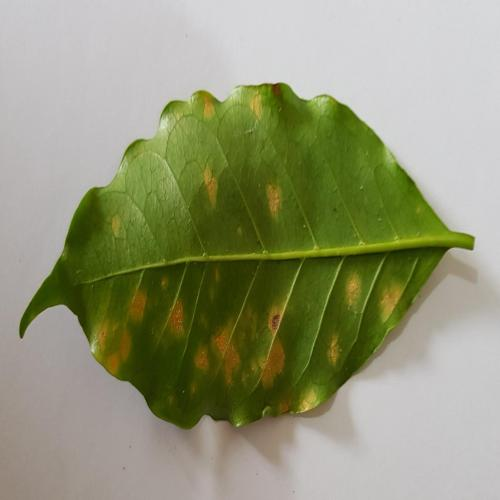leaf: (0, 68, 478, 444)
rust: (80, 310, 144, 386), (210, 318, 248, 399), (247, 329, 290, 385), (374, 276, 416, 331), (254, 176, 299, 222), (152, 292, 192, 339), (318, 328, 352, 367), (341, 267, 369, 314), (102, 202, 132, 245), (200, 157, 222, 209), (289, 389, 322, 420), (190, 343, 215, 382), (123, 283, 154, 314), (244, 91, 270, 121), (198, 95, 217, 122), (187, 378, 201, 391)
